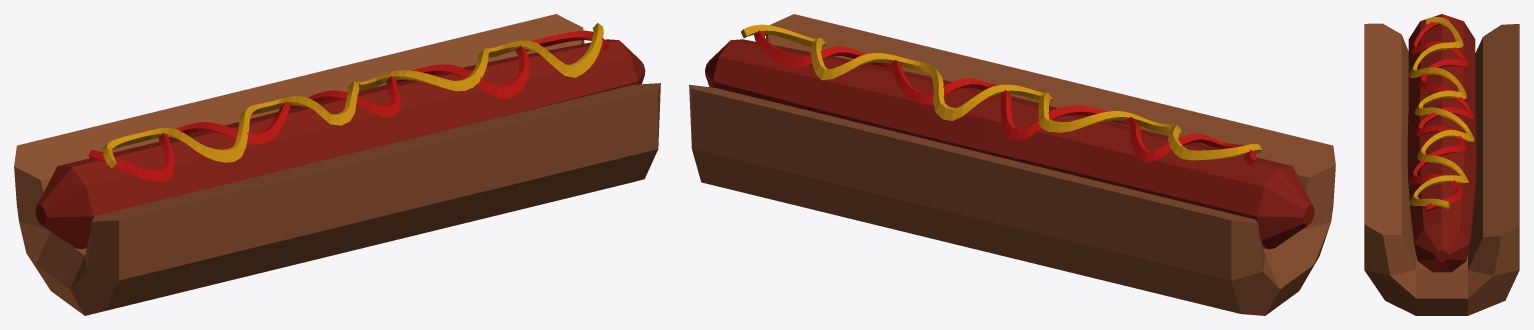
File: hotdog de karen.FBX
3 views of the same model, side by side, from view 1: azimuth 30°, elevation 25°; view 2: azimuth 150°, elevation 25°; view 3: azimuth 270°, elevation 25° (orthographic). The views are drawn at different scales.
Parts seen in each view (by area): view 1: hotcho bun, Cylinder003, mostaza, catsup; view 2: hotcho bun, Cylinder003, mostaza, catsup; view 3: hotcho bun, Cylinder003, mostaza, catsup.
Boxes of the visible parts, bbox=[...] form: hotcho bun: bbox=[14, 14, 660, 315]; Cylinder003: bbox=[35, 39, 645, 249]; mostaza: bbox=[101, 23, 603, 168]; catsup: bbox=[88, 30, 609, 181]; hotcho bun: bbox=[689, 14, 1335, 315]; Cylinder003: bbox=[705, 39, 1314, 249]; mostaza: bbox=[741, 24, 1262, 160]; catsup: bbox=[754, 30, 1255, 165]; hotcho bun: bbox=[1364, 23, 1519, 315]; Cylinder003: bbox=[1407, 14, 1476, 272]; mostaza: bbox=[1409, 17, 1474, 208]; catsup: bbox=[1409, 16, 1474, 212].
Bounding box in the file's own units: 13.96 × 3.29 × 4.11.
